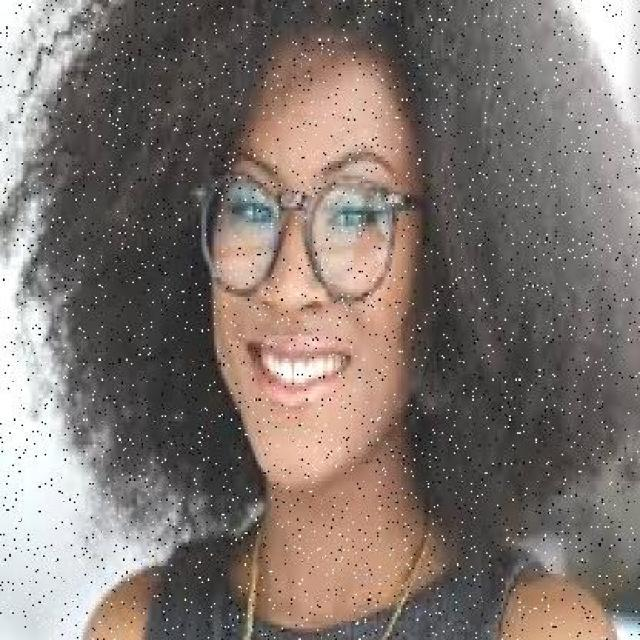glasses: (190, 162, 404, 304)
